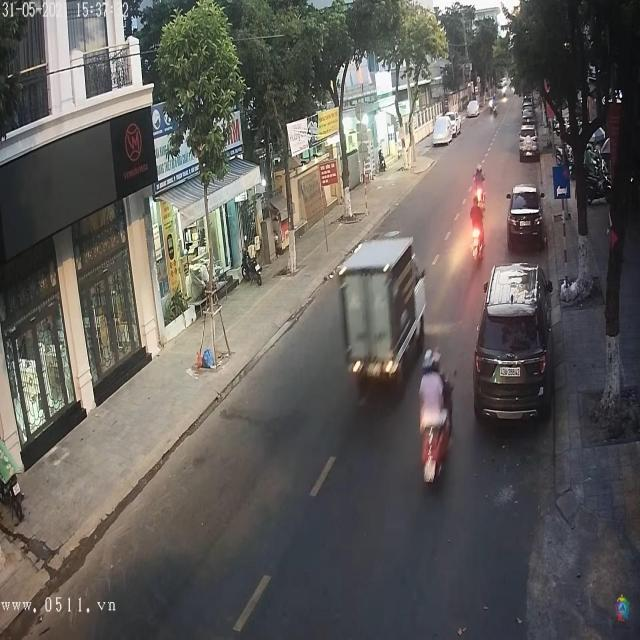car: (474, 262, 557, 422), (508, 186, 545, 247), (433, 112, 458, 146), (518, 134, 539, 161), (467, 98, 480, 117)
motorcycle: (418, 355, 454, 486), (471, 214, 486, 269)
truck: (338, 232, 427, 390)
